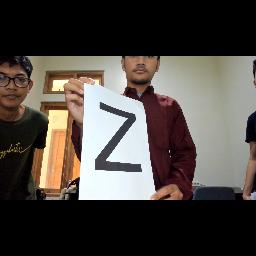z: (92, 98, 144, 178)
